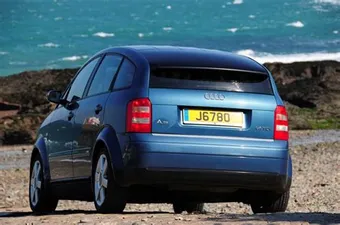number_plate: (179, 105, 258, 132)
